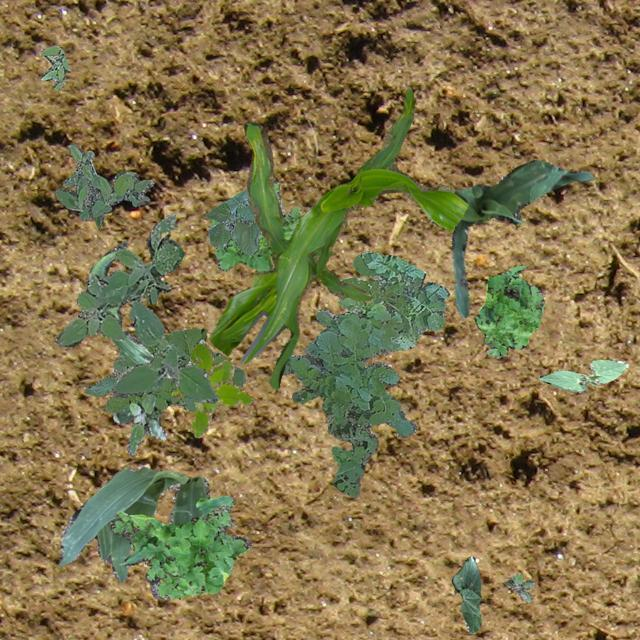crop: (208, 88, 467, 388), (452, 158, 592, 316), (56, 466, 208, 598), (89, 240, 203, 378), (203, 188, 260, 254), (538, 358, 628, 392), (450, 556, 480, 632)
weed: (282, 249, 448, 496), (54, 212, 218, 402), (84, 327, 244, 418), (110, 494, 248, 598), (209, 180, 301, 270), (54, 144, 152, 228), (170, 342, 252, 437), (474, 264, 544, 356), (111, 394, 166, 454), (40, 44, 70, 90), (503, 572, 533, 600)
